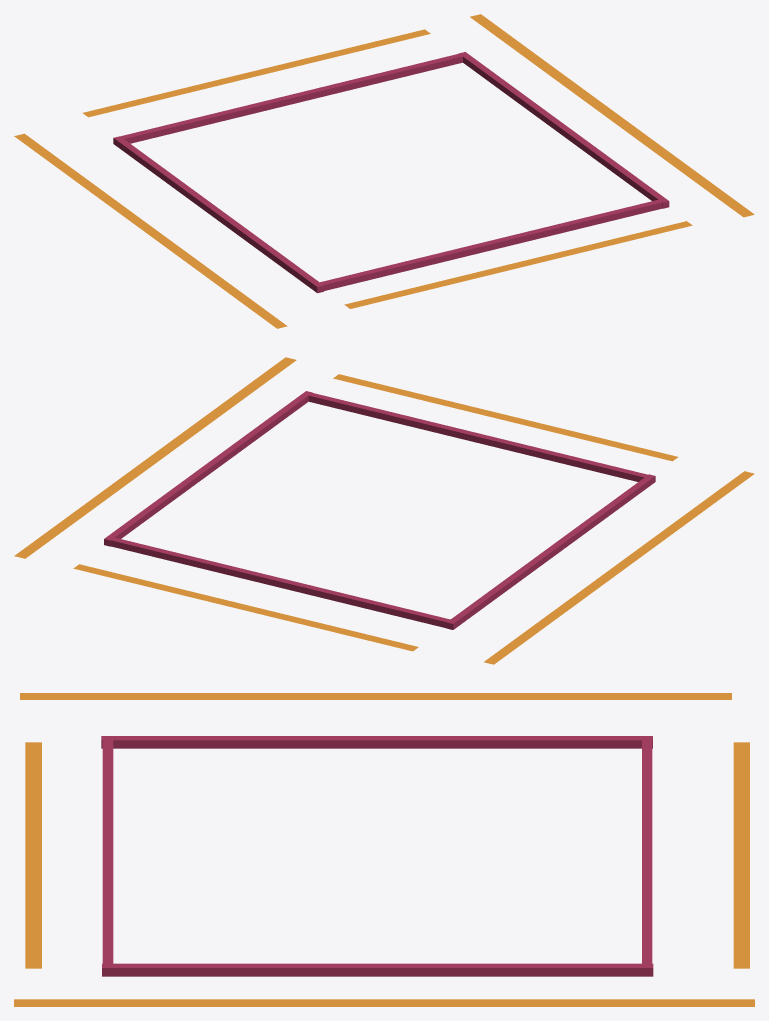
The model's file is PunchPeng_Deacl001.fbx.
The picture shows the model from 3 angles, top to bottom: view 1: azimuth 30°, elevation 25°; view 2: azimuth 150°, elevation 25°; view 3: azimuth 270°, elevation 25°; orthographic projection. The views are drawn at different scales.
Visible parts, largest first — view 1: PunchPeng_Deacl001; view 2: PunchPeng_Deacl001; view 3: PunchPeng_Deacl001.
Boxes of the visible parts, x1,y1,x2,y2 form: PunchPeng_Deacl001: (14,14,754,328); PunchPeng_Deacl001: (14,357,754,664); PunchPeng_Deacl001: (14,693,754,1006).
Bounding box in the file's own units: 2246 × 2242 × 27.97.
Materials: 1 (1 with a texture image).
